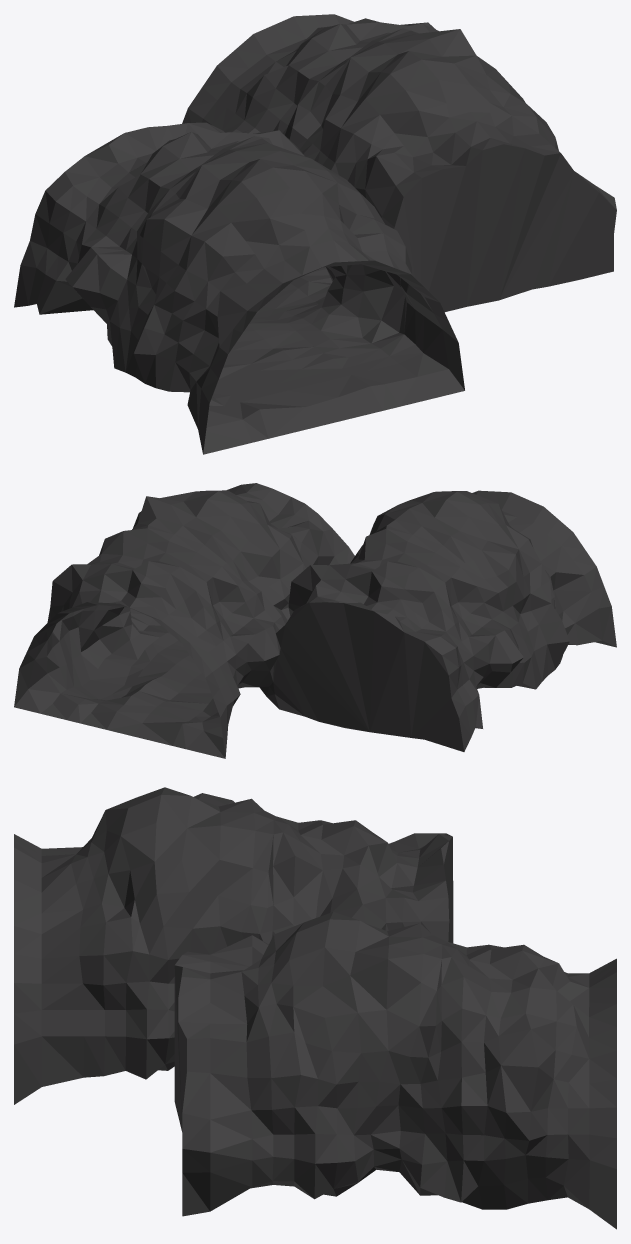
Rendered from Cave_7.fbx.
3 views of the same model, one above another, from view 1: azimuth 30°, elevation 25°; view 2: azimuth 150°, elevation 25°; view 3: azimuth 270°, elevation 25° (orthographic). The views are drawn at different scales.
Parts seen in each view (by area): view 1: polySurface2; view 2: polySurface2; view 3: polySurface2.
Boxes of the visible parts, left/top/right/bottom form: polySurface2: left=14, top=14, right=616, bottom=454; polySurface2: left=14, top=483, right=616, bottom=758; polySurface2: left=14, top=787, right=616, bottom=1229.
Size of the model in its own units: 15.9 by 6.27 by 14.32.
